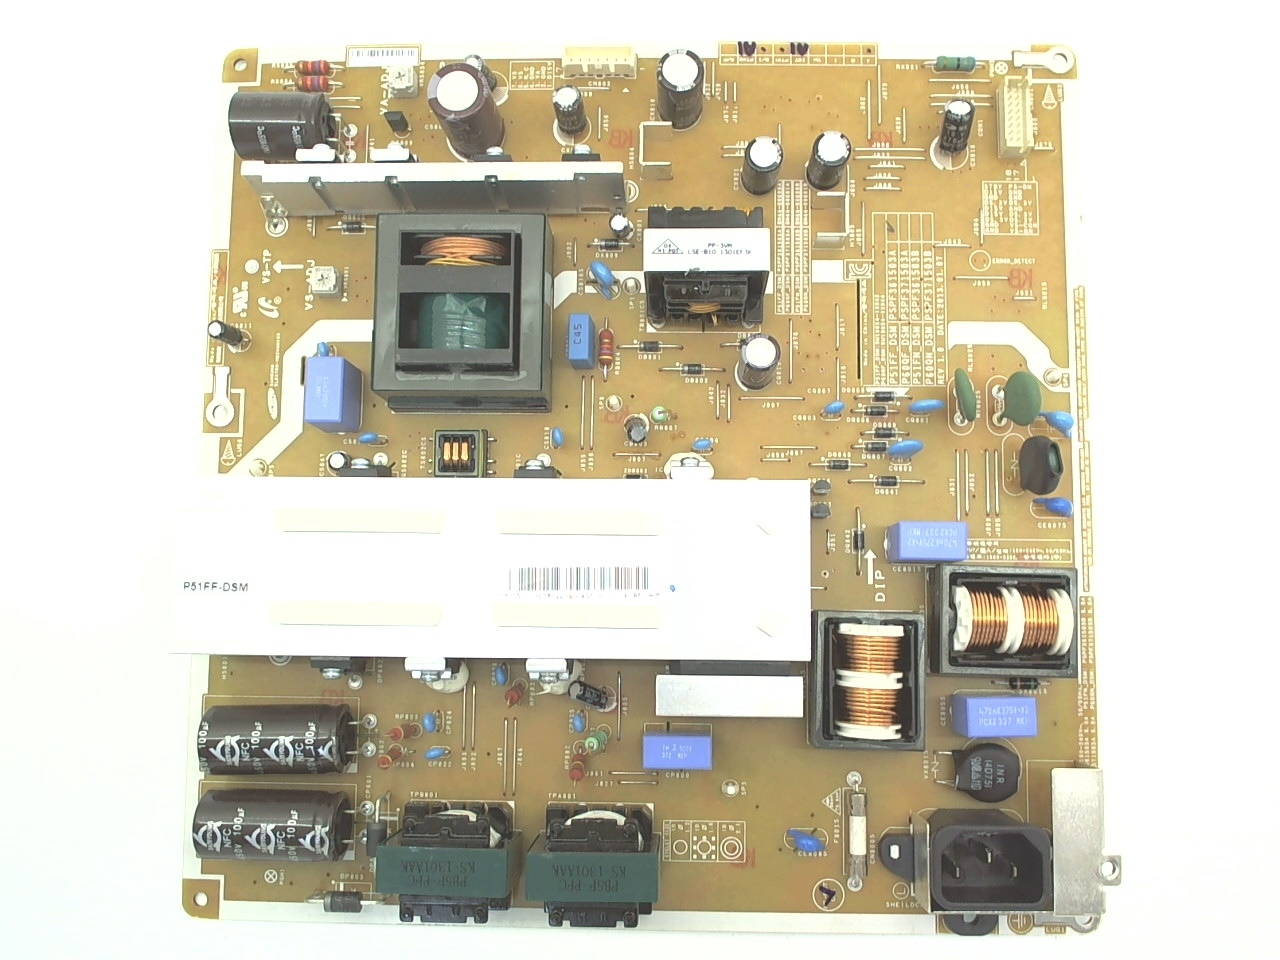capacitor: (402, 48, 523, 168), (642, 45, 709, 139), (722, 128, 788, 207), (927, 85, 990, 167), (804, 119, 861, 206), (536, 79, 604, 148), (731, 325, 787, 397)
